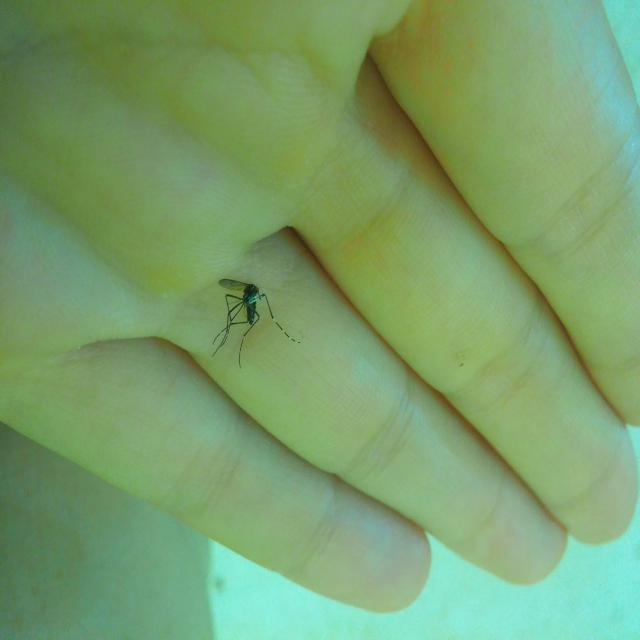albopictus: (209, 271, 301, 374)
